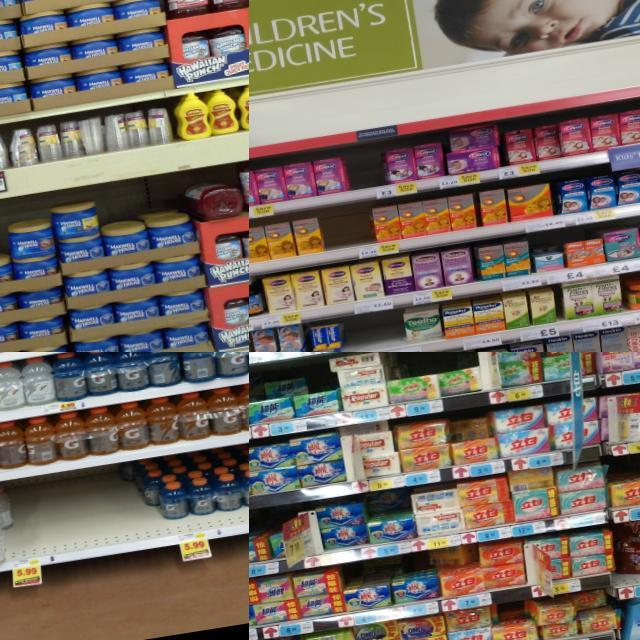empty: (9, 468, 130, 568), (320, 205, 376, 262), (345, 310, 407, 352), (346, 144, 386, 200)
